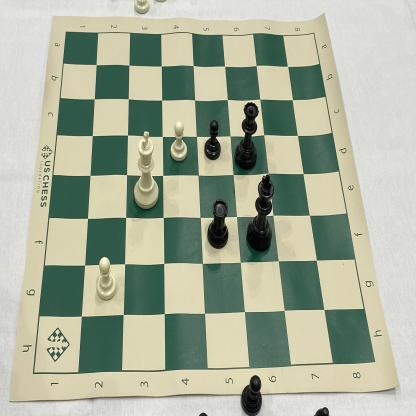black-king: (243, 171, 279, 258)
black-pawn: (203, 118, 223, 162)
black-queen: (234, 98, 262, 175)
black-rook: (204, 195, 231, 251)
white-king: (128, 127, 161, 211)
white-pawn: (92, 254, 119, 303), (166, 120, 190, 162)
